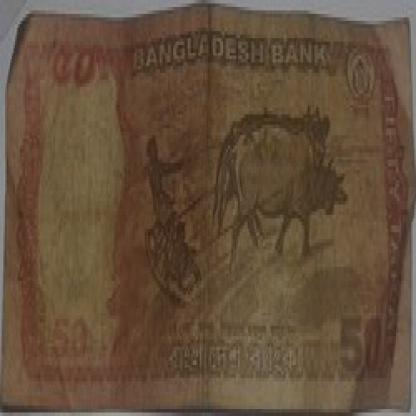Fifty taka: (40, 28, 115, 142), (320, 312, 401, 395)
